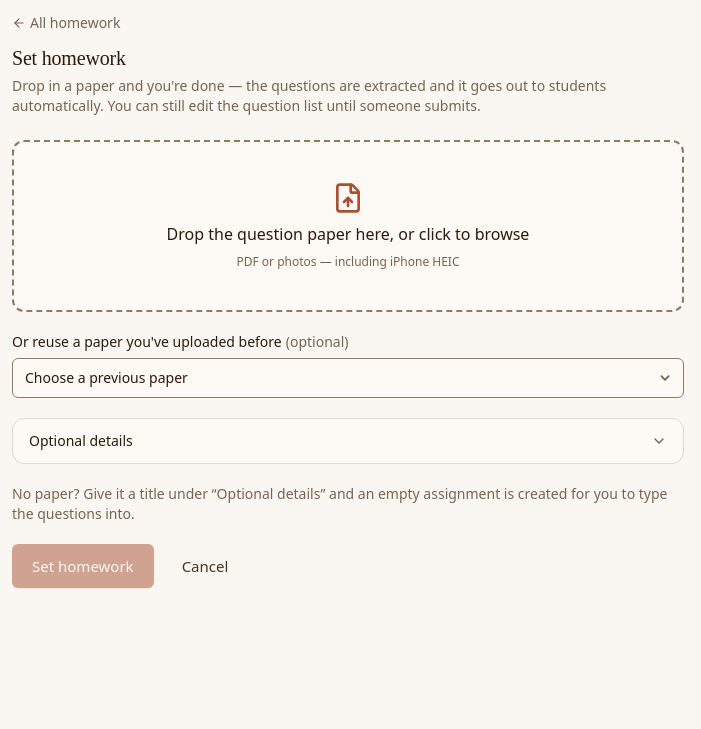
Scenario: reusing a classified shows its own chapter and notes
Select "Bonding classified" in the dropdown: (348, 378) 12,358 -> 684,398
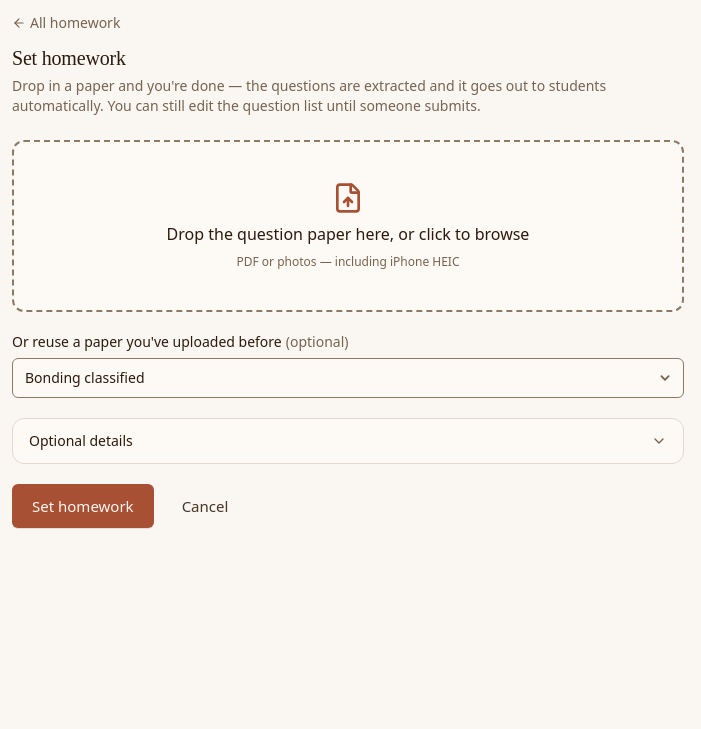
Click the button "Optional details": (81, 440) 13,419 -> 683,463
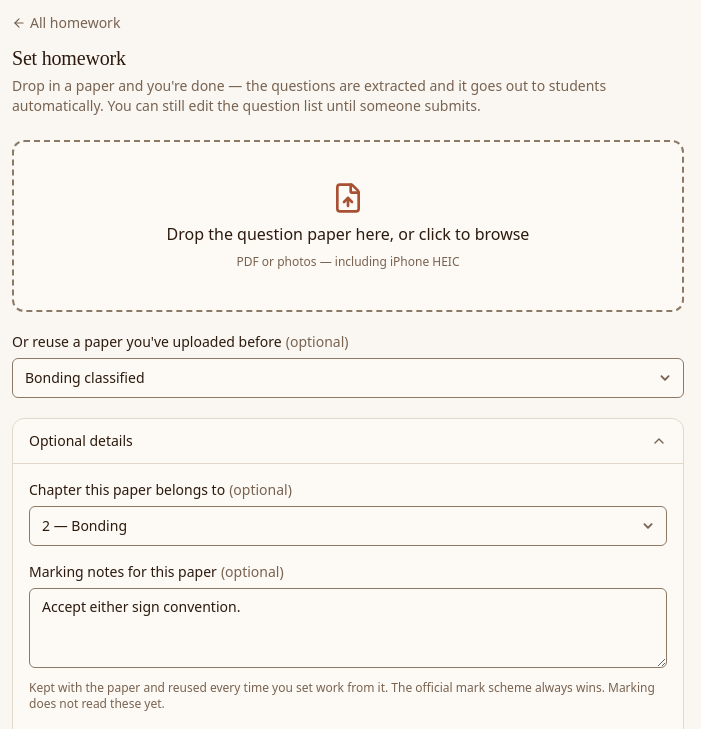
Now the dropdown labelled "Chapter this paper belongs to(optional)" shows "2 — Bonding", box 29,506 -> 667,546
Now the text box labelled "Marking notes for this paper(optional)" holds "Accept either sign convention.", box 29,588 -> 667,668
